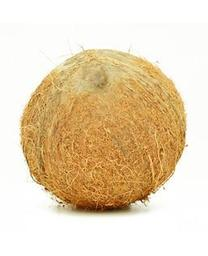coconut: (18, 47, 188, 211)
